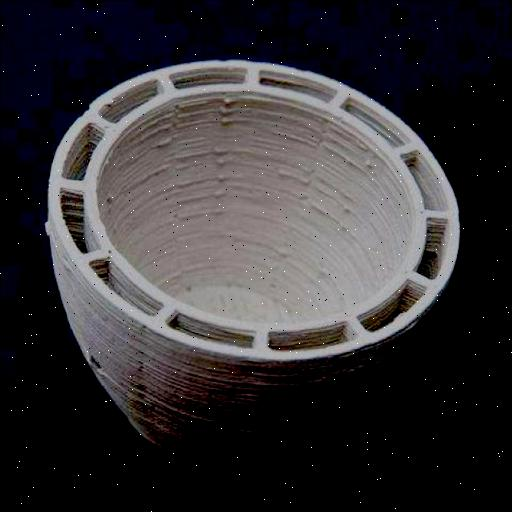blobs: (210, 142, 228, 160), (357, 158, 374, 174), (216, 110, 230, 129), (272, 244, 288, 260), (213, 105, 231, 118), (221, 92, 237, 106), (214, 174, 228, 188), (214, 157, 228, 169), (214, 187, 226, 200)
